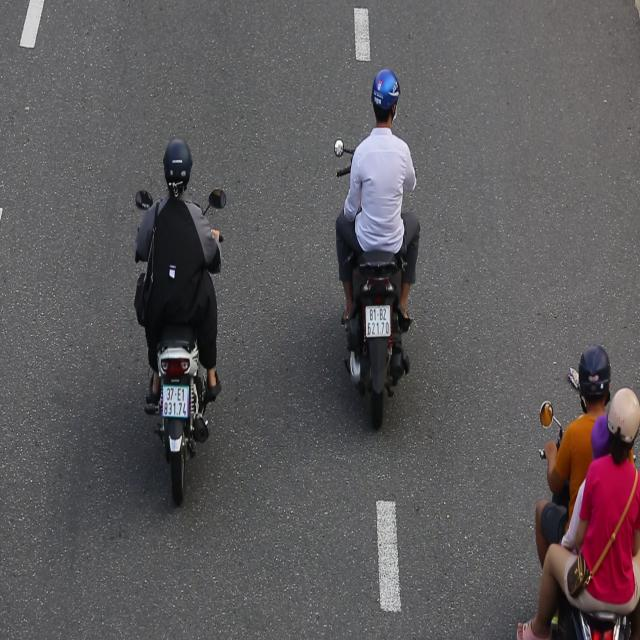motorbike: (317, 58, 421, 438), (130, 117, 231, 508)
